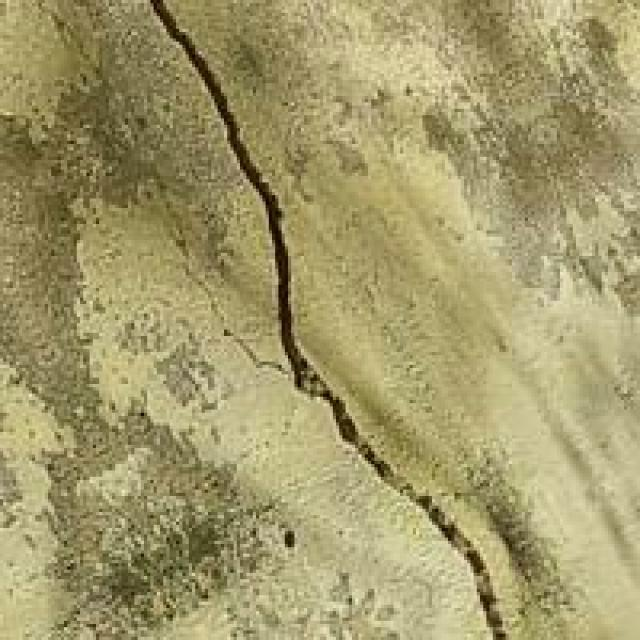crack: (138, 0, 518, 640)
